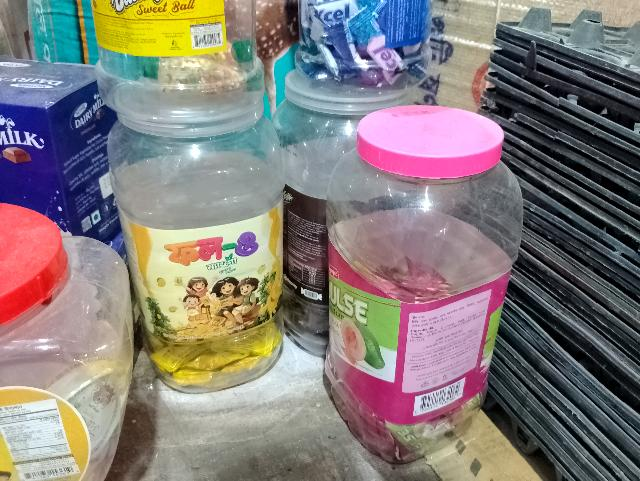hardplastic: (269, 117, 536, 452), (110, 65, 303, 387), (2, 207, 133, 481)
